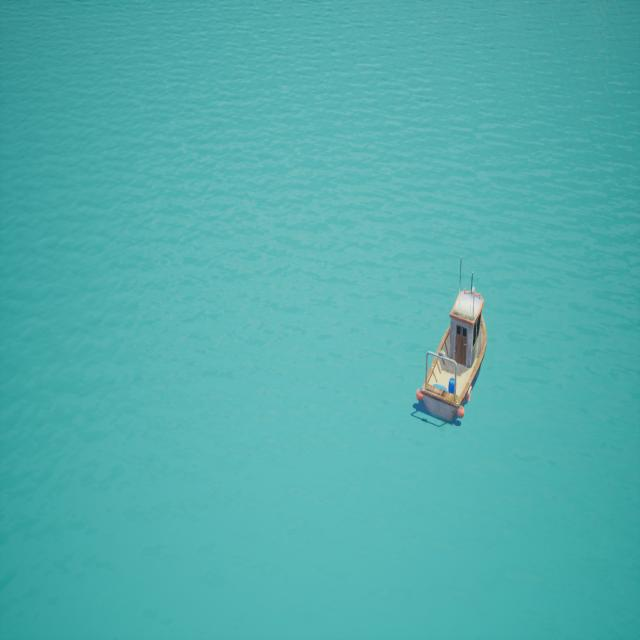ship: (414, 259, 486, 430)
